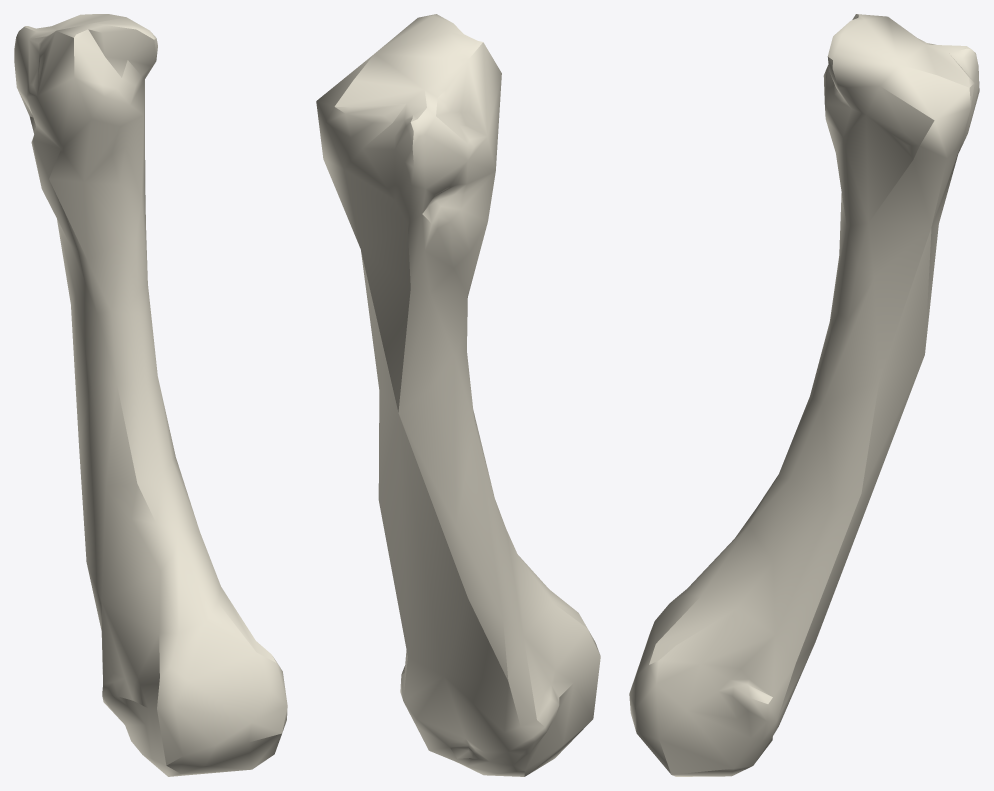
The model's file is fma24470_fj3356.glb.
3 renders of one model, left to right at view 1: azimuth 30°, elevation 25°; view 2: azimuth 150°, elevation 25°; view 3: azimuth 270°, elevation 25°, orthographic. The views are drawn at different scales.
Parts seen in each view (by area): view 1: FMA24470_FJ3356; view 2: FMA24470_FJ3356; view 3: FMA24470_FJ3356.
Part boxes in pixels (x1,y1,x2,y2): FMA24470_FJ3356: (14, 14, 287, 776); FMA24470_FJ3356: (316, 14, 600, 776); FMA24470_FJ3356: (629, 14, 979, 776).
Bounding box in the file's own units: 0.0123 × 0.0599 × 0.0261.
